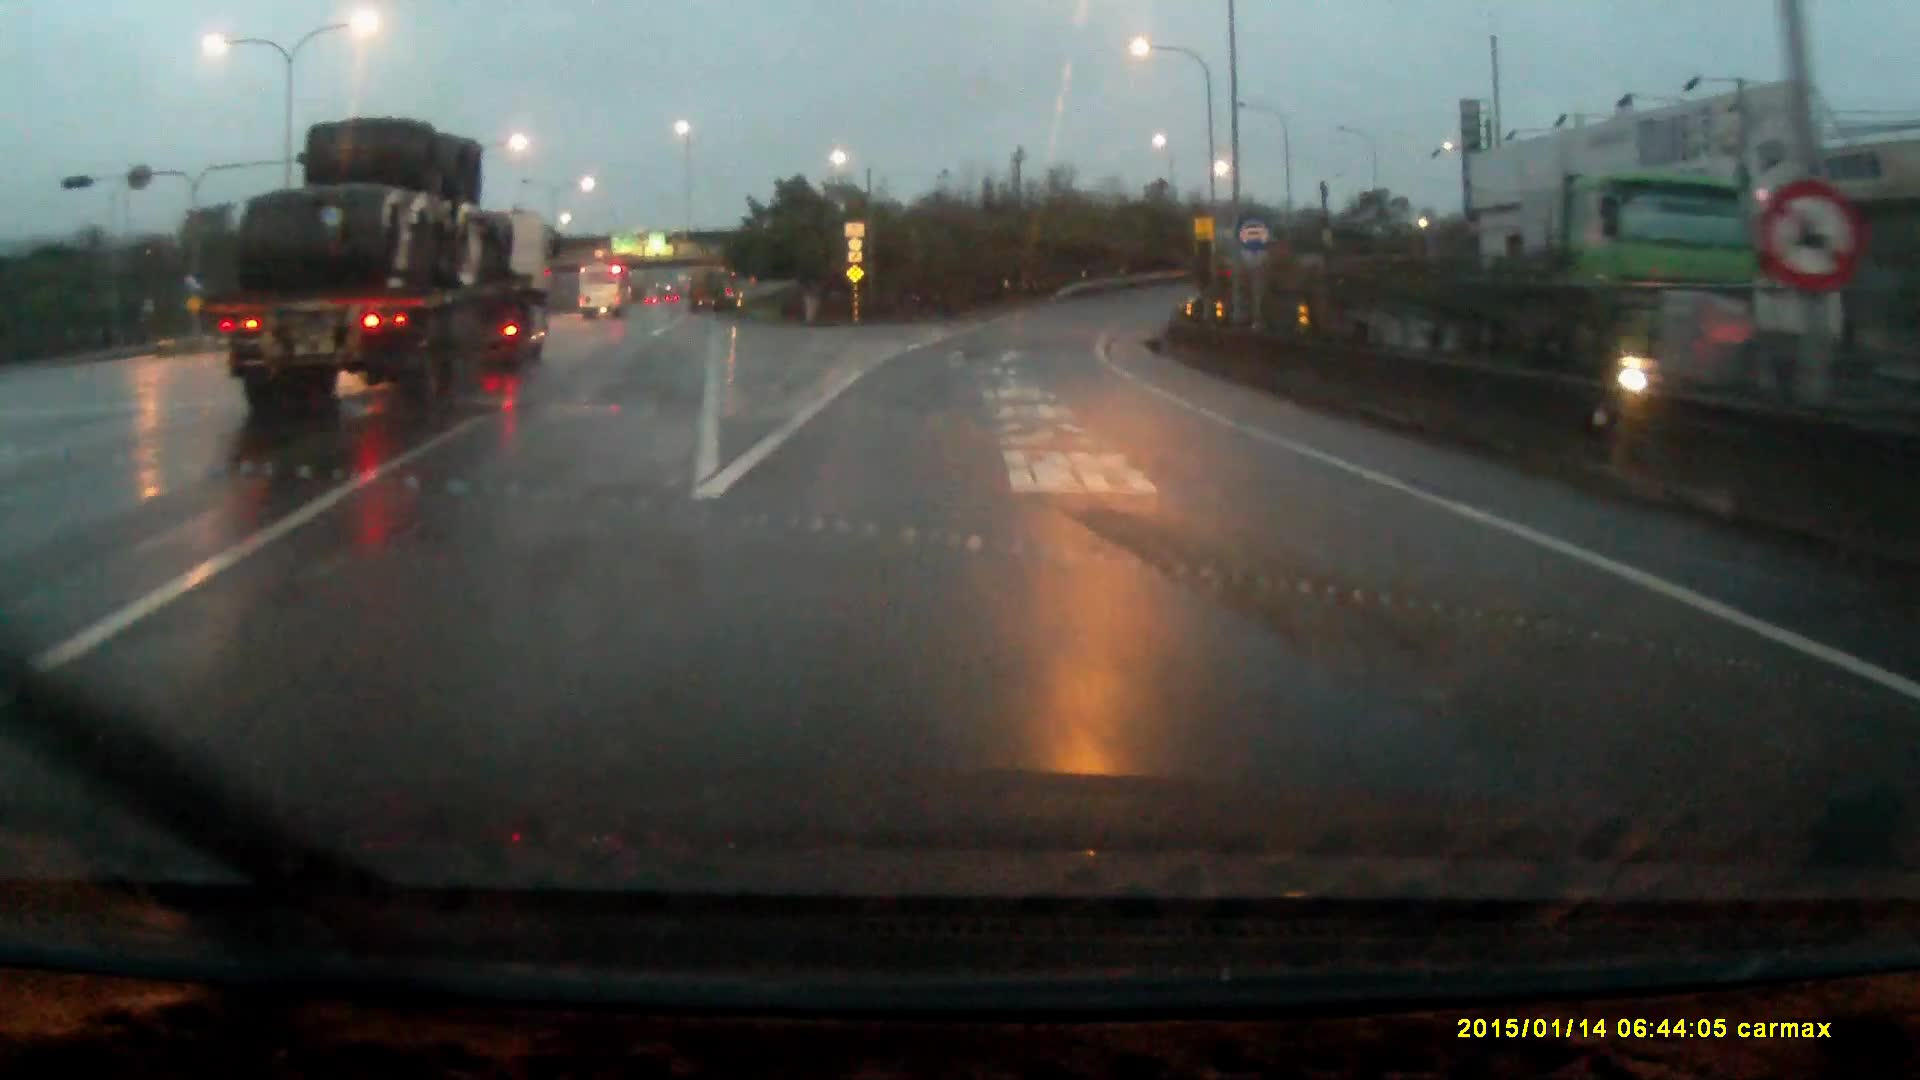vehicle: (215, 117, 559, 411), (578, 264, 632, 320)
